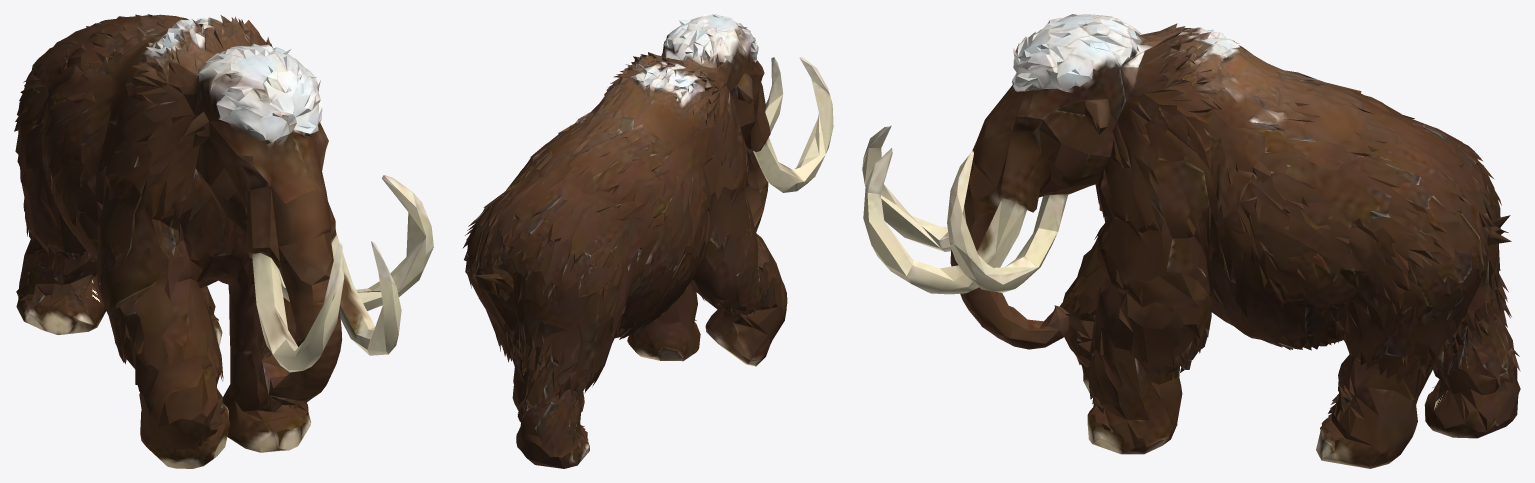
File: mammoth.glb
The picture shows the model from 3 angles, left to right: view 1: azimuth 30°, elevation 25°; view 2: azimuth 150°, elevation 25°; view 3: azimuth 270°, elevation 25°; orthographic projection. The views are drawn at different scales.
Size of the model in its own units: 0.7706 by 1.26 by 1.86.
1 material, 1 textured.
